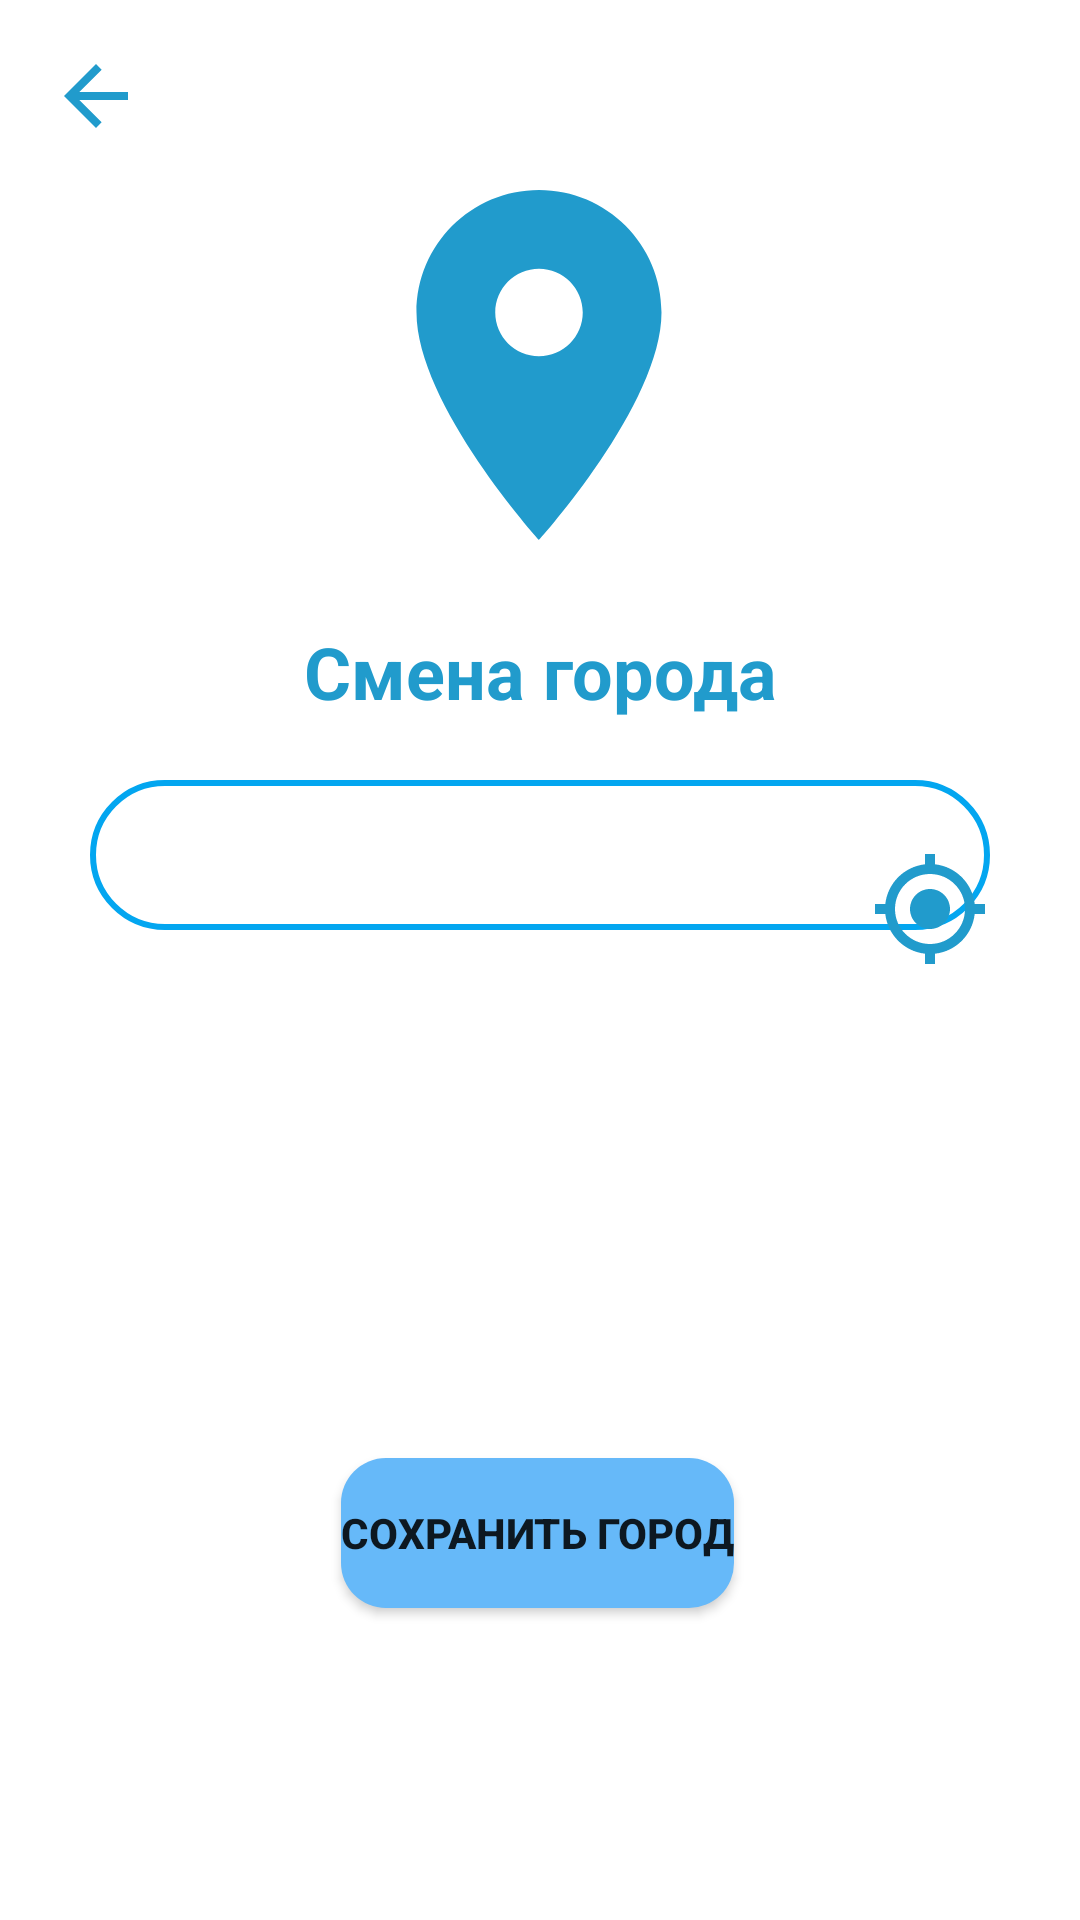

Icon bounding boxes for this 1080px x 1920px phone screenshot, format (x1, y1, x2, y2):
back: (64, 64, 128, 128)
location: (416, 190, 662, 540)
